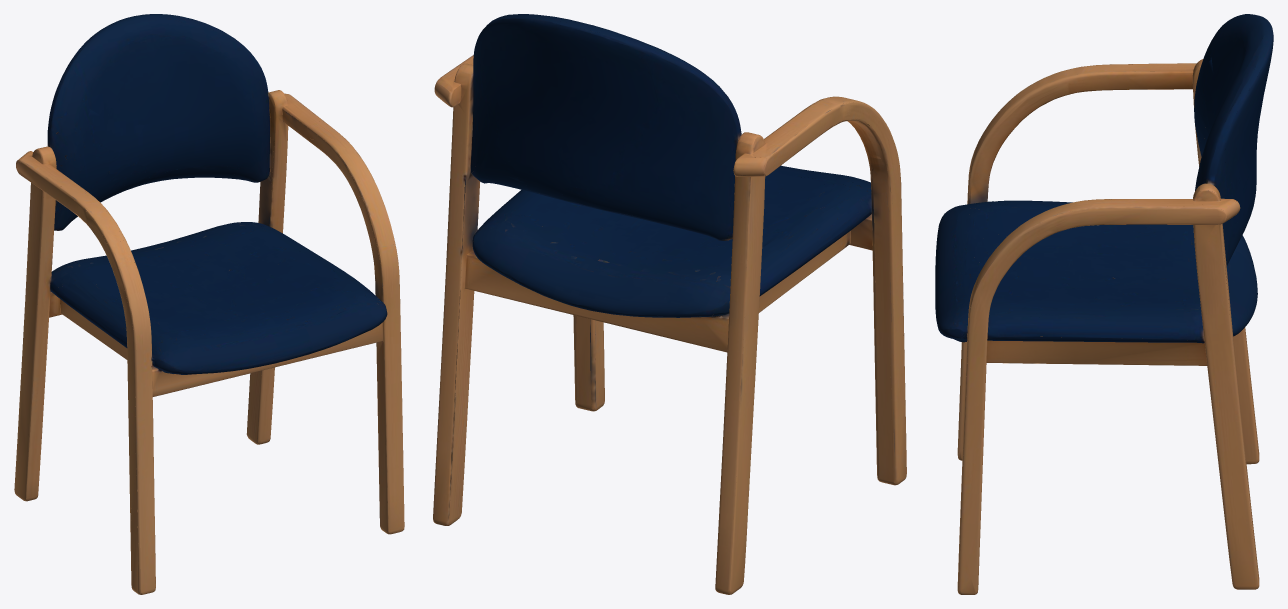
File: chair.glb
3 views of the same model, side by side, from view 1: azimuth 30°, elevation 25°; view 2: azimuth 150°, elevation 25°; view 3: azimuth 270°, elevation 25° (orthographic). The views are drawn at different scales.
Visible parts, largest first — view 1: material; view 2: material; view 3: material.
Part boxes in pixels (left/top/right/bottom): material: left=14, top=14, right=404, bottom=594; material: left=433, top=14, right=906, bottom=594; material: left=935, top=14, right=1273, bottom=594.
Size of the model in its own units: 0.5952 by 0.9322 by 0.5809.
1 material, 1 textured.
